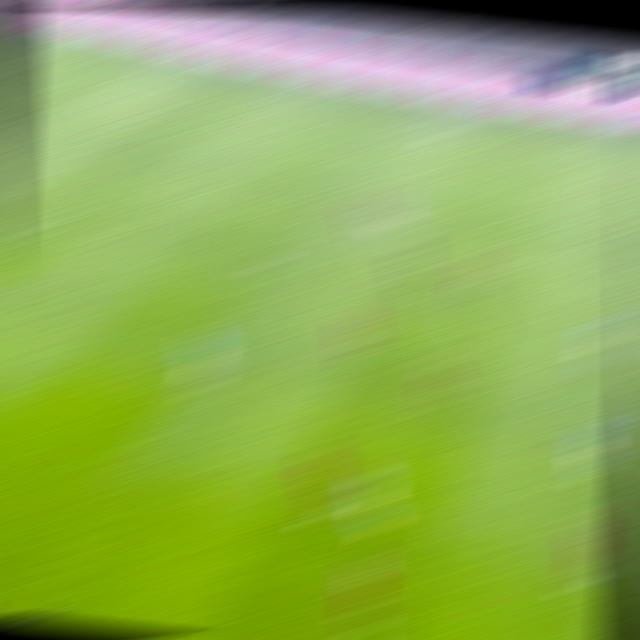bigarea_top_inner: (136, 102, 172, 119)
halfcircle_bottom: (603, 393, 640, 428)
halfcircle_top: (620, 248, 640, 272)
top_arc_area_intersection: (58, 152, 94, 166)
